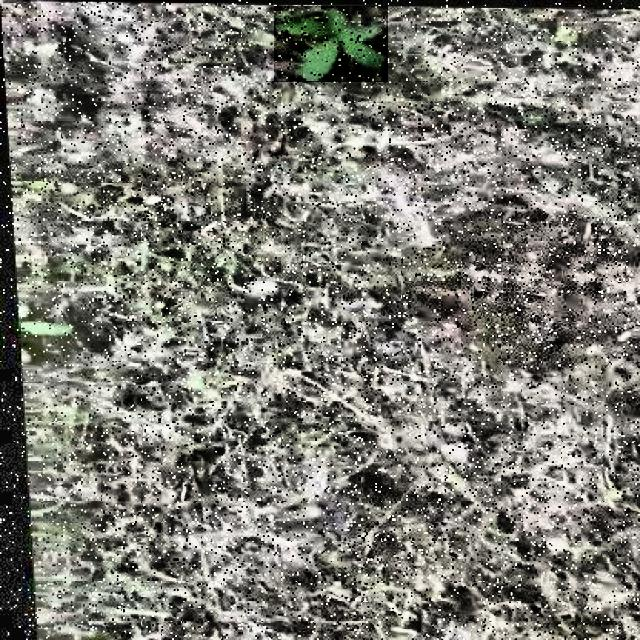Weeds: (274, 6, 388, 82)
